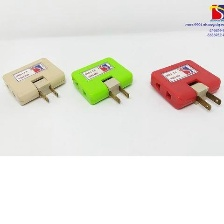three_eye_plug: (148, 56, 224, 116), (1, 53, 70, 108), (70, 53, 137, 108)
